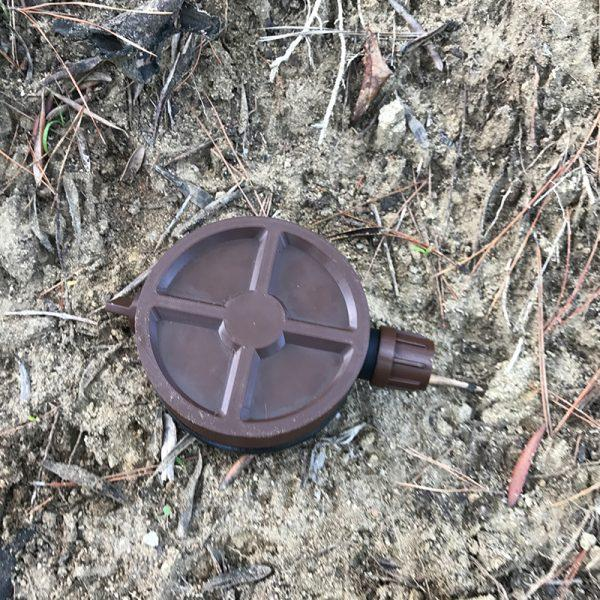pmn: (101, 213, 436, 459)
